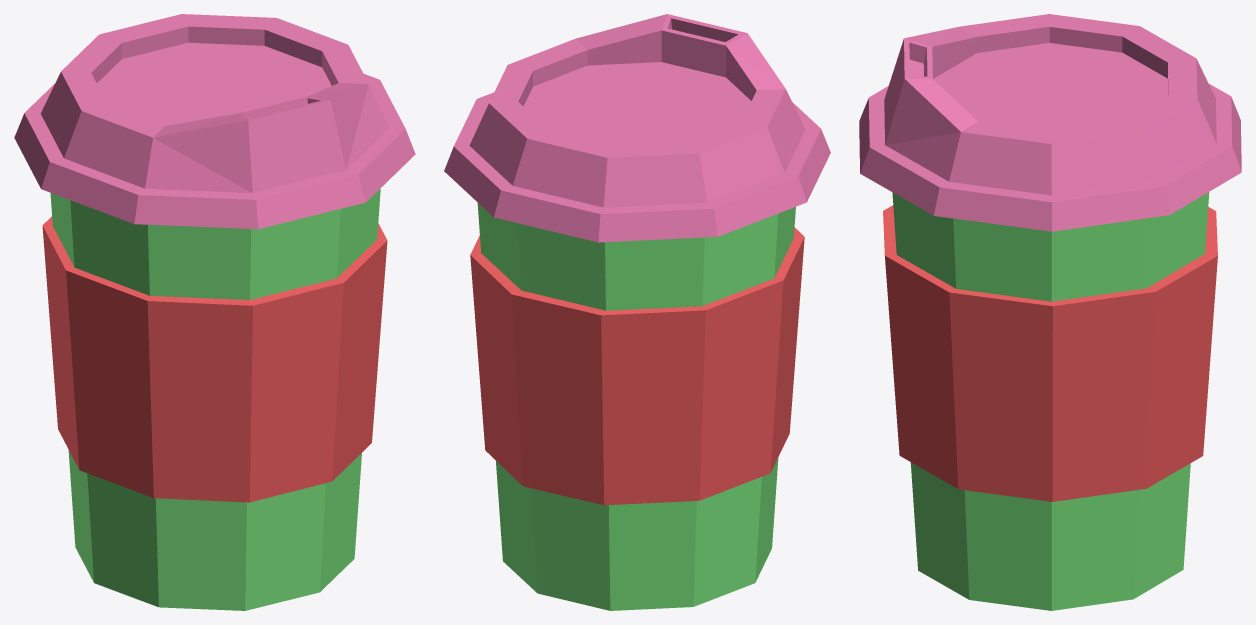
Rendered from Coffee.fbx.
3 views of the same model, side by side, from view 1: azimuth 30°, elevation 25°; view 2: azimuth 150°, elevation 25°; view 3: azimuth 270°, elevation 25° (orthographic). The views are drawn at different scales.
Visible parts, largest first — view 1: Coffee; view 2: Coffee; view 3: Coffee.
Boxes of the visible parts, x1=… form: Coffee: x1=14, y1=14, x2=415, y2=610; Coffee: x1=444, y1=14, x2=830, y2=610; Coffee: x1=859, y1=14, x2=1241, y2=610.
Bounding box in the file's own units: 15.14 × 20.56 × 14.44.
